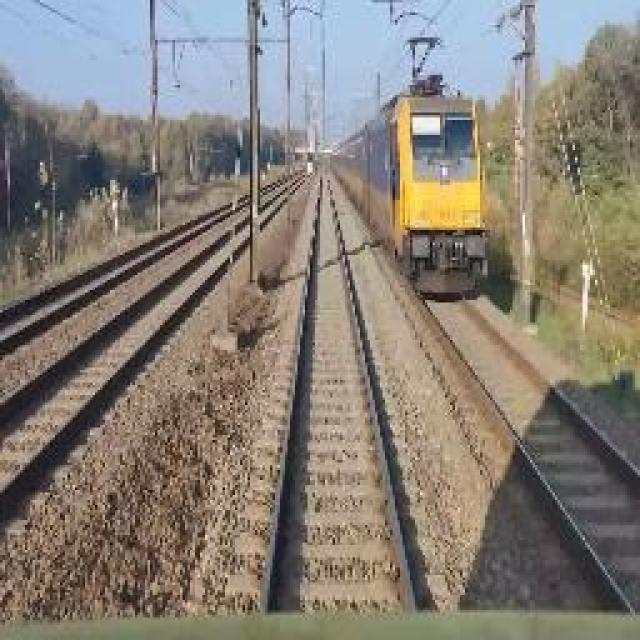rail: (0, 170, 311, 553), (214, 172, 465, 617), (398, 295, 640, 612)
